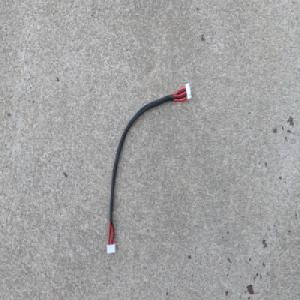Wire: (105, 80, 194, 257)
